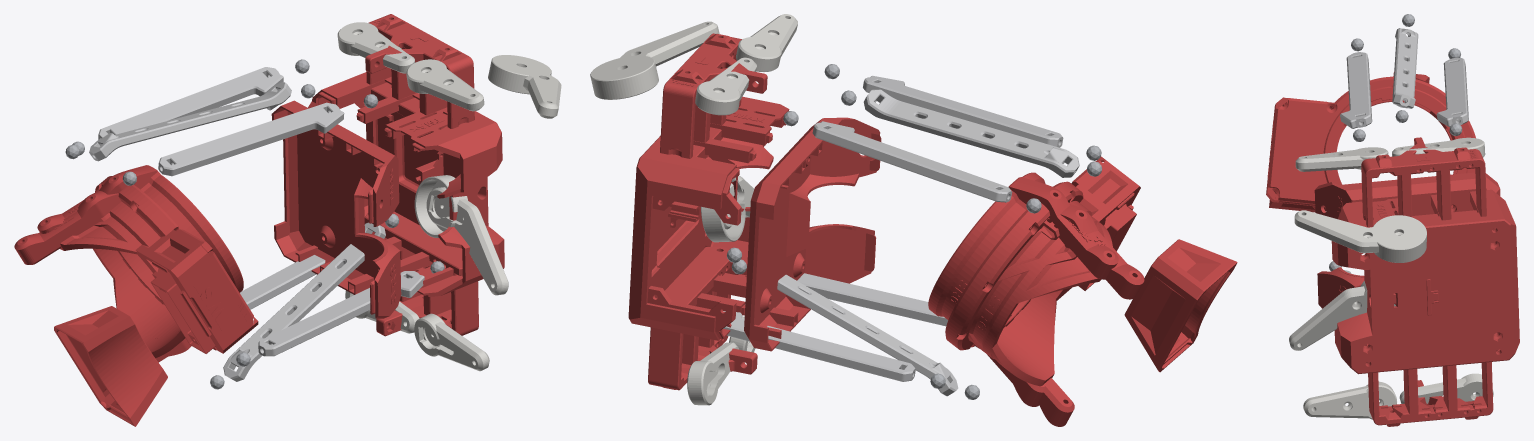
The model's file is ORS6_build.glb.
3 renders of one model, left to right at view 1: azimuth 30°, elevation 25°; view 2: azimuth 150°, elevation 25°; view 3: azimuth 270°, elevation 25°, orthographic. The views are drawn at different scales.
Visible parts, largest first — view 1: p3, p7, p0, p8, p1, p5, p2, p24, p13, p25, p17, p21 (+9 smaller); view 2: p0, p7, p3, p5, p8, p1, p2, p21, p20, p17, p25, p29 (+7 smaller); view 3: p0, p6, p1, p3, p2, p20, p24, p32, p13, p21, p5, p17 (+7 smaller).
Boxes of the visible parts, x1,y1,x2,y2 form: p3: (271,100,401,318); p7: (14,181,249,362); p0: (308,72,504,296); p8: (54,306,167,426); p1: (365,14,474,129); p5: (37,165,243,338); p2: (364,211,478,336); p24: (414,175,508,295); p13: (158,102,344,176); p25: (223,222,385,381); p17: (98,67,283,139); p21: (89,82,291,161); p0: (628,96,789,340); p7: (953,163,1144,426); p3: (744,117,881,351); p5: (928,172,1118,406); p8: (1124,239,1237,372); p1: (660,33,767,158); p2: (648,246,757,390); p21: (863,89,1079,177); p20: (590,21,719,99); p17: (812,121,1012,202); p25: (777,274,958,396); p29: (723,311,915,381); p0: (1331,189,1519,374); p6: (1267,76,1475,208); p1: (1361,137,1486,227); p3: (1314,172,1500,308); p2: (1364,345,1498,426); p20: (1294,210,1426,262); p24: (1289,281,1395,350); p32: (1303,381,1396,419); p13: (1340,52,1372,128); p21: (1392,28,1418,108); p5: (1323,74,1467,205); p17: (1436,57,1468,127).
Bounding box in the file's own units: 419 × 226 × 192.
